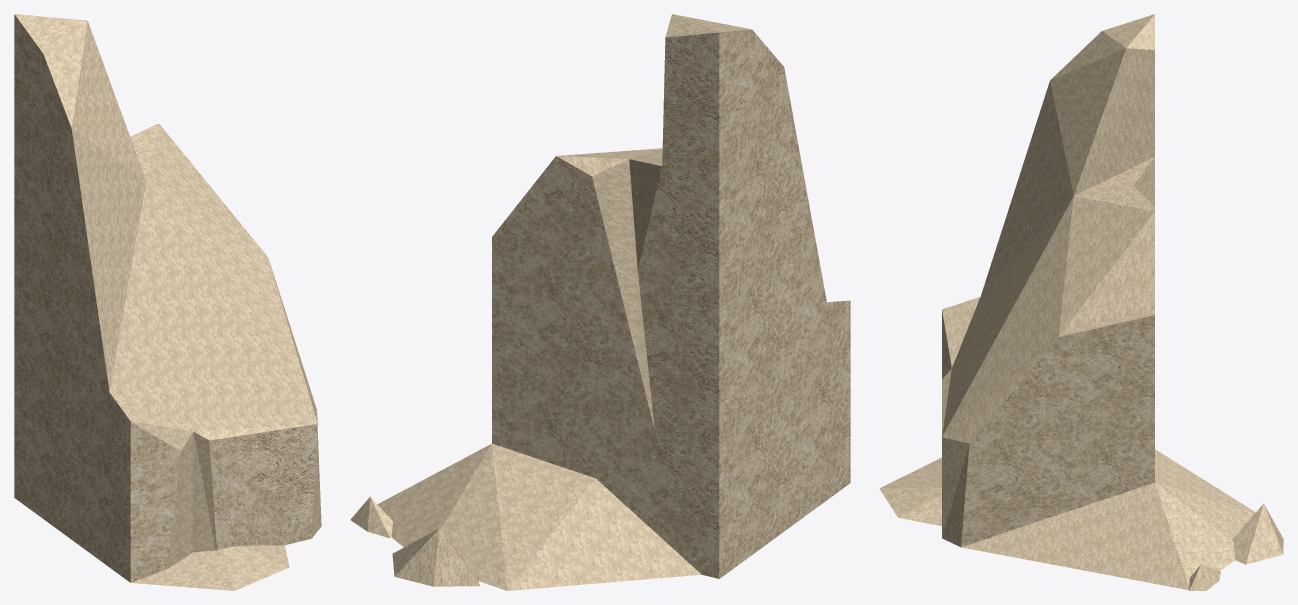
Rendered from thm_tato_imprv_pillar_ruin_sml_s01_l1.fbx.
3 renders of one model, left to right at view 1: azimuth 30°, elevation 25°; view 2: azimuth 150°, elevation 25°; view 3: azimuth 270°, elevation 25°, orthographic. The views are drawn at different scales.
Visible parts, largest first — view 1: mesh_node; view 2: mesh_node; view 3: mesh_node.
Boxes of the visible parts, bbox=[...] form: mesh_node: bbox=[14, 14, 321, 590]; mesh_node: bbox=[350, 14, 850, 590]; mesh_node: bbox=[879, 14, 1283, 590].
Size of the model in its own units: 1.48 by 2.3 by 1.9.
